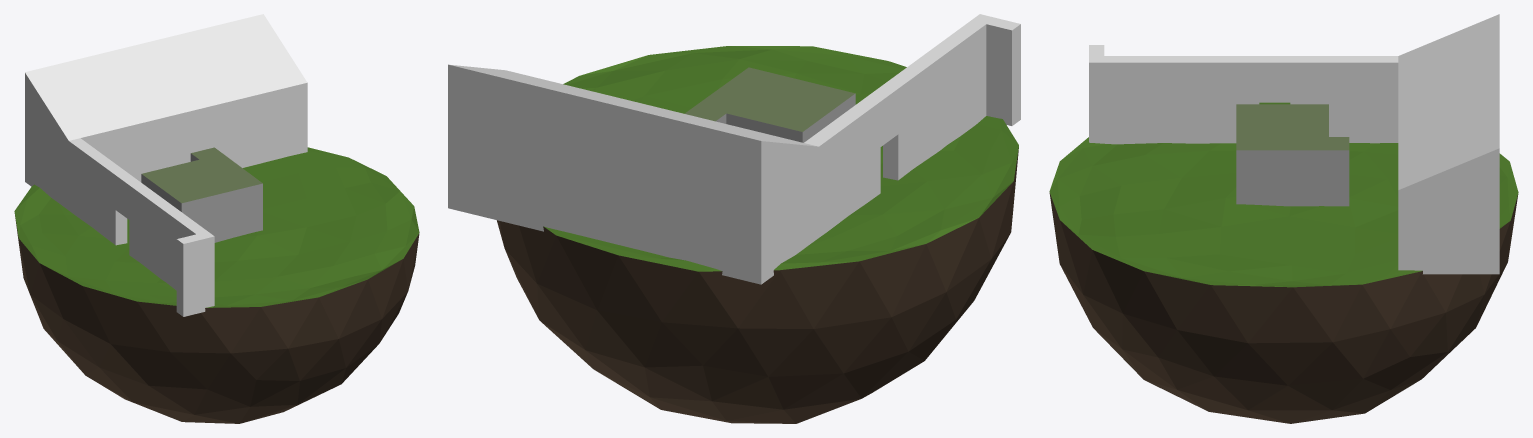
The model's file is Level1P.fbx.
3 views of the same model, side by side, from view 1: azimuth 30°, elevation 25°; view 2: azimuth 150°, elevation 25°; view 3: azimuth 270°, elevation 25° (orthographic). The views are drawn at different scales.
Visible parts, largest first — view 1: Island.002, FakeBuilding.002, WallWHole.002, Platform.002, RandomWall.002; view 2: Island.002, FakeBuilding.002, WallWHole.002, Platform.002, RandomWall.002; view 3: Island.002, FakeBuilding.002, WallWHole.002, Platform.002.
Boxes of the visible parts, box(x1,y1,x2,y2) form: Island.002: box(14, 147, 419, 423); FakeBuilding.002: box(25, 14, 307, 204); WallWHole.002: box(62, 136, 214, 312); Platform.002: box(141, 147, 262, 242); RandomWall.002: box(176, 234, 202, 316); Island.002: box(497, 46, 1018, 423); FakeBuilding.002: box(448, 64, 818, 284); WallWHole.002: box(804, 14, 994, 237); Platform.002: box(684, 67, 855, 142); RandomWall.002: box(986, 17, 1020, 125); Island.002: box(1049, 102, 1518, 423); FakeBuilding.002: box(1398, 14, 1499, 274); WallWHole.002: box(1089, 56, 1398, 144); Platform.002: box(1236, 104, 1349, 206).
Bounding box in the file's own units: 29.9 × 23.75 × 30.32.
